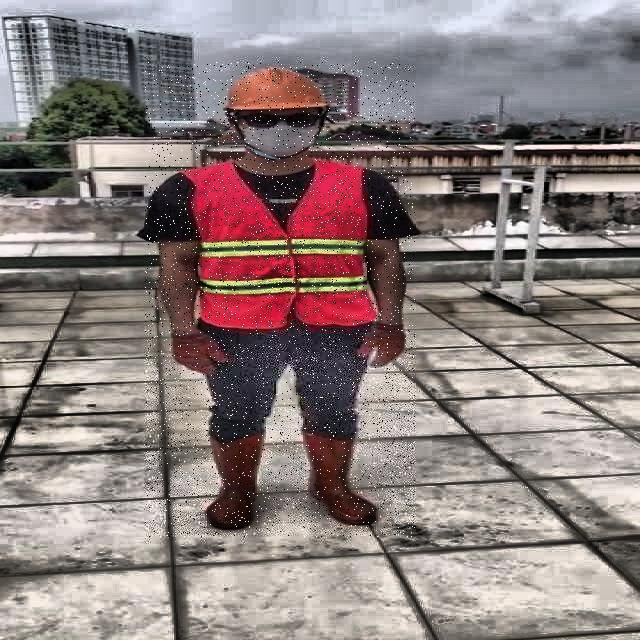safety_helmet: (222, 67, 336, 114)
safety_jacket: (180, 158, 370, 327)
